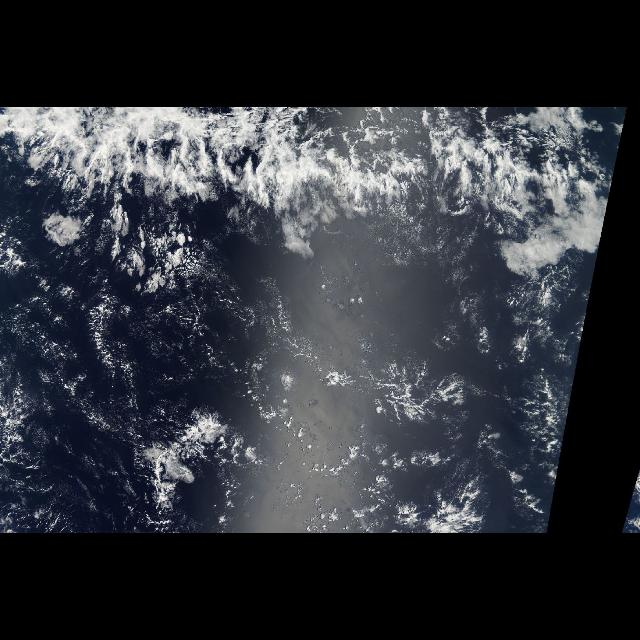Fish: (2, 292, 548, 528)
